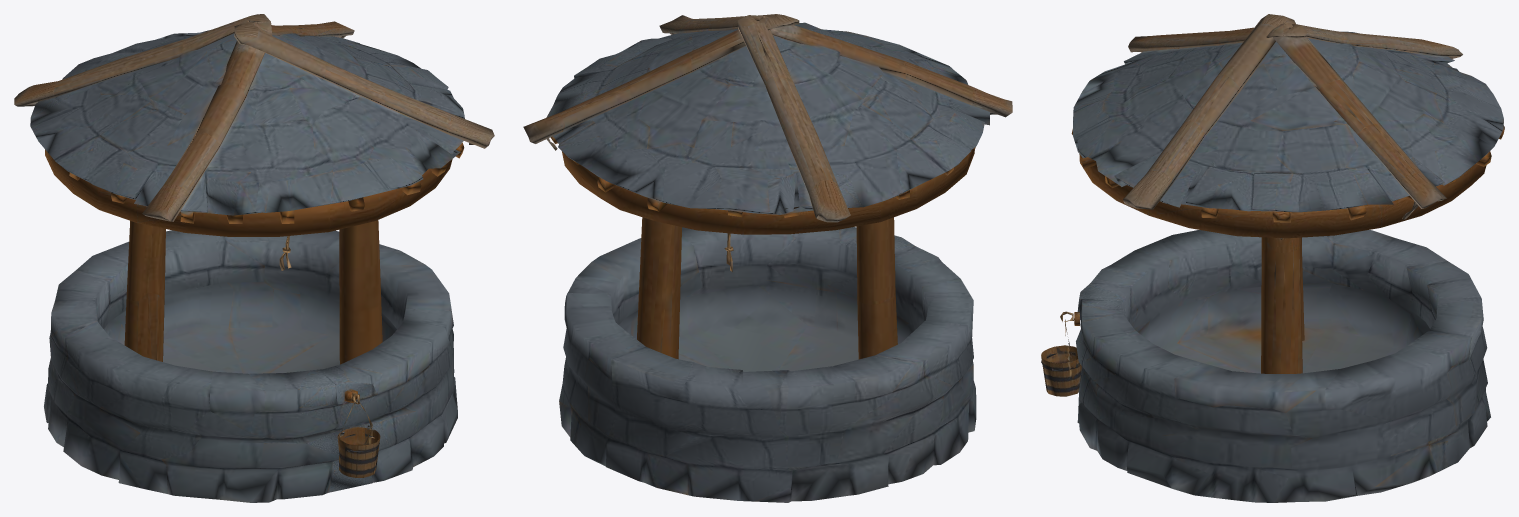
The model's file is village-well.glb.
3 views of the same model, side by side, from view 1: azimuth 30°, elevation 25°; view 2: azimuth 150°, elevation 25°; view 3: azimuth 270°, elevation 25° (orthographic).
Size of the model in its own units: 0.8726 by 0.8852 by 0.9395.
Materials: 1 (1 with a texture image).
